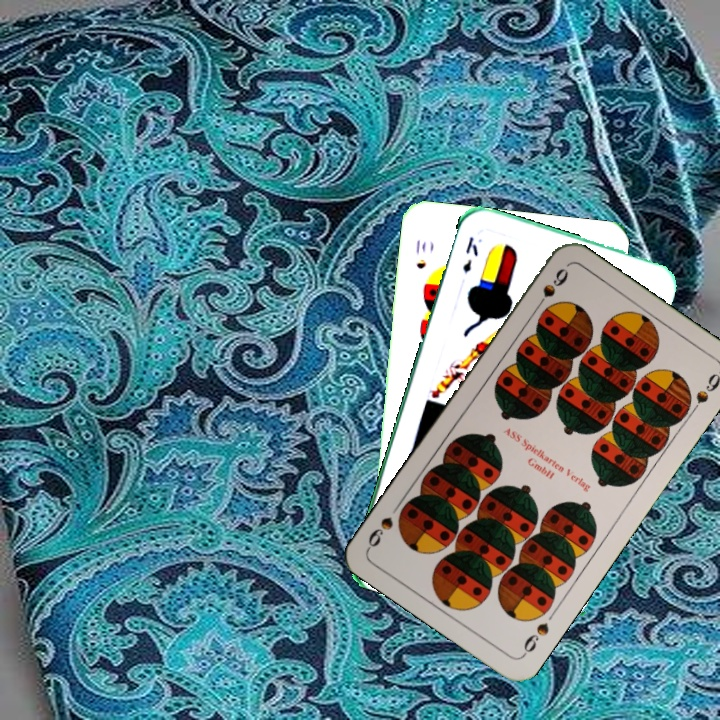EK: (458, 232, 481, 276)
S10: (411, 236, 428, 272)
S9: (530, 264, 572, 315), (518, 618, 552, 659)
